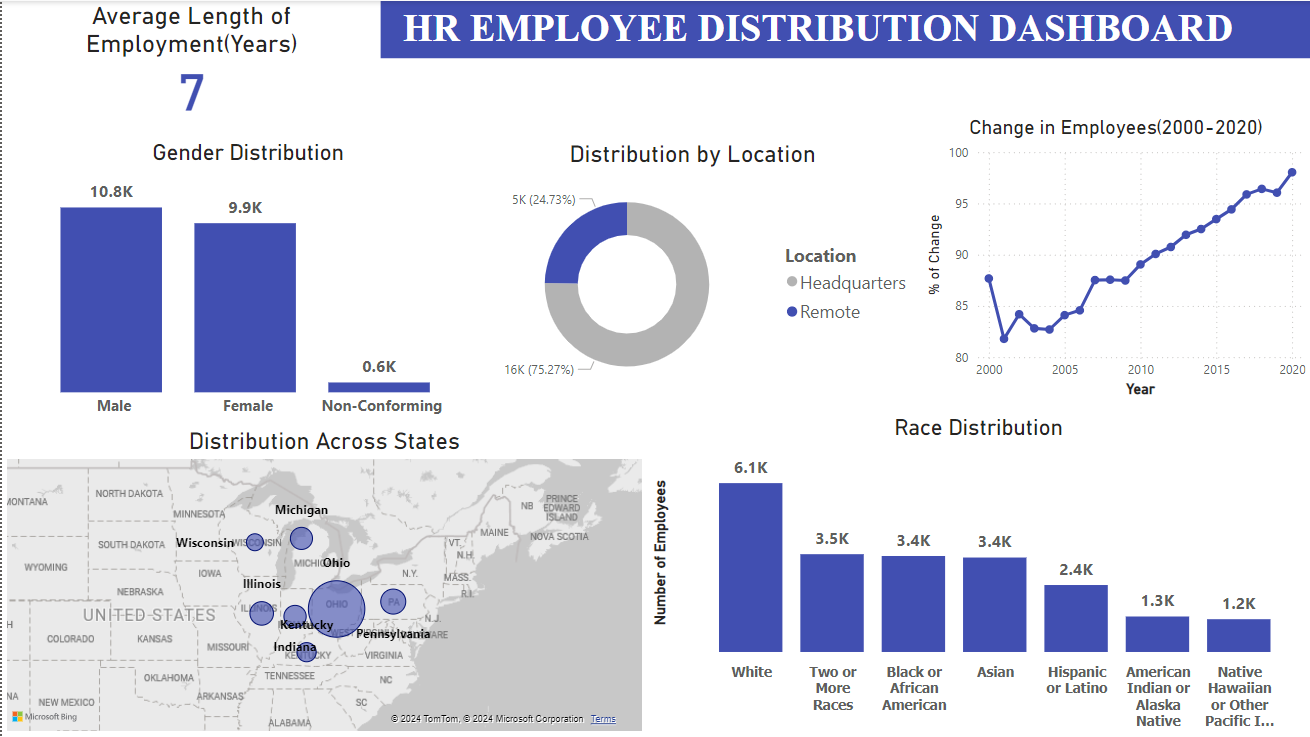

What the dashboard file says about the page in this screenshot:
{"tool":"powerbi","page":{"name":"Page 1","canvas":[1280,720],"ordinal":0},"visuals":[{"type":"clusteredColumnChart","title":"Gender Distribution","fields":{"Category":["gender.gender"],"Y":["Sum(gender.count)"]},"box":[0,135.8,481.6,281.3],"z":0},{"type":"donutChart","title":"Distribution by Location","fields":{"Y":["Sum(location.count)"],"Category":["location.location"]},"box":[452.4,135.7,446.3,256.8],"z":1000},{"type":"columnChart","title":"Race Distribution","fields":{"Category":["race.race"],"Y":["Sum(race.count)"]},"box":[630.6,404.2,648.6,315.3],"z":2000},{"type":"map","title":"Distribution Across States","fields":{"Category":["state.location_state"],"Size":["Sum(state.count)"]},"box":[0,416.7,630.6,302.8],"z":3000},{"type":"textbox","box":[317,0,963,56],"z":4000},{"type":"lineChart","title":"Change in Employees(2000-2020)","fields":{"Category":["employee_change.year"],"Y":["Sum(employee_change.net_change_percent)"]},"box":[898.8,112.5,381.5,279.9],"z":5000},{"type":"card","title":"Average Length of Employment(Years)","fields":{"Values":["Sum(avg_length_employment.avg_length_of_employment)"]},"box":[0,0,370.5,112.5],"z":6000}]}

Visuals, with their boxes in screenshot pixels (x1, y1, x2, y2), scaled from the page's 1280x720 canvas onto the 1310x737 screenshot:
"Gender Distribution" clusteredColumnChart: <bbox>0, 139, 493, 427</bbox>
"Distribution by Location" donutChart: <bbox>463, 139, 920, 402</bbox>
"Race Distribution" columnChart: <bbox>645, 414, 1309, 736</bbox>
"Distribution Across States" map: <bbox>0, 427, 645, 736</bbox>
textbox: <bbox>324, 0, 1309, 57</bbox>
"Change in Employees(2000-2020)" lineChart: <bbox>920, 115, 1309, 402</bbox>
"Average Length of Employment(Years)" card: <bbox>0, 0, 379, 115</bbox>
